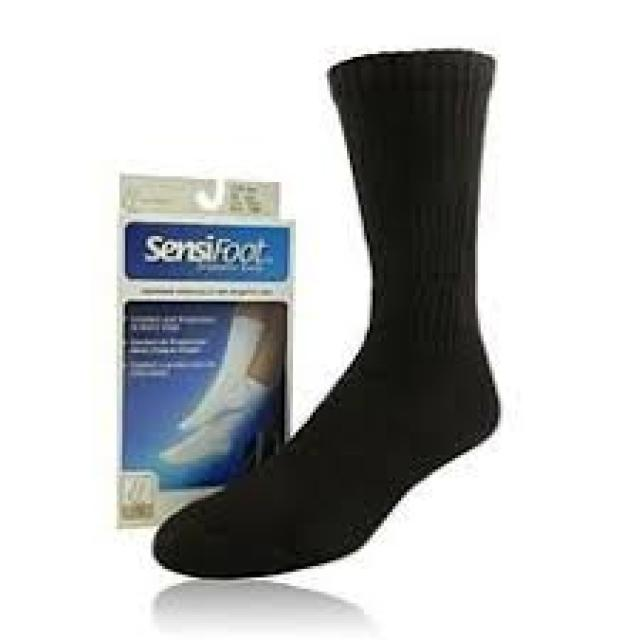sock: (150, 45, 500, 578)
